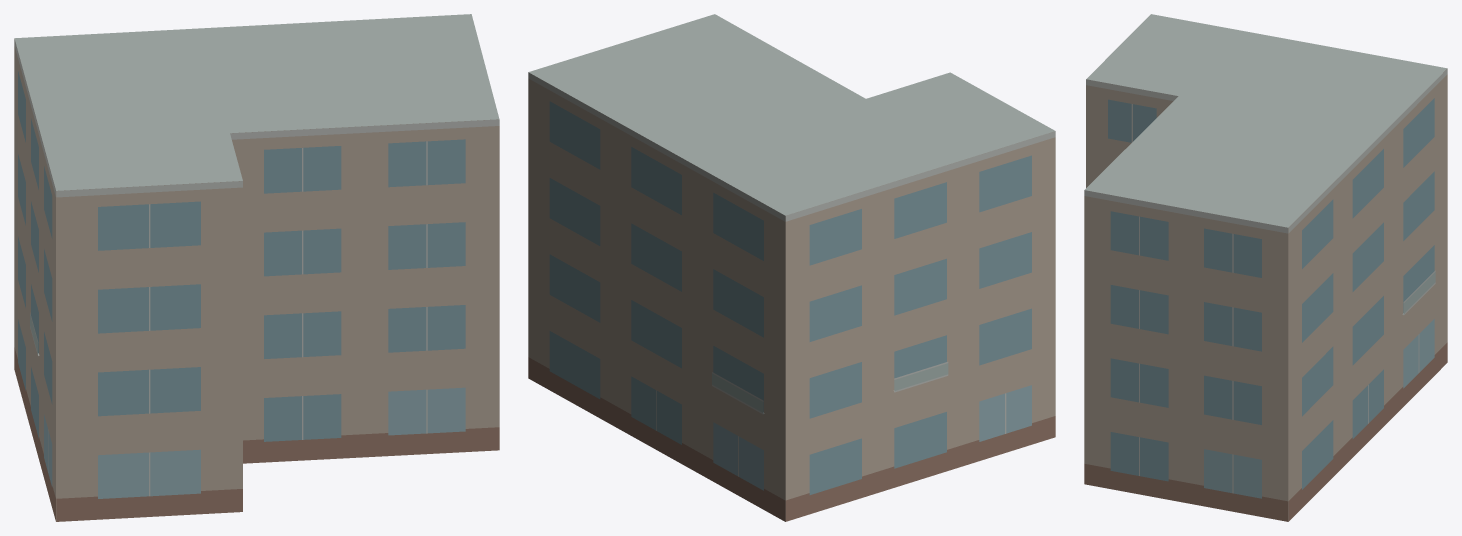
File: survey-upis-32541971.glb
3 views of the same model, side by side, from view 1: azimuth 30°, elevation 25°; view 2: azimuth 150°, elevation 25°; view 3: azimuth 270°, elevation 25° (orthographic). The views are drawn at different scales.
Parts seen in each view (by area): view 1: survey-upis-32541971.tmp; view 2: survey-upis-32541971.tmp; view 3: survey-upis-32541971.tmp.
Boxes of the visible parts, bbox=[...] form: survey-upis-32541971.tmp: bbox=[14, 14, 499, 521]; survey-upis-32541971.tmp: bbox=[528, 14, 1055, 521]; survey-upis-32541971.tmp: bbox=[1084, 14, 1447, 521].
Bounding box in the file's own units: 19.02 × 12.2 × 13.67.
